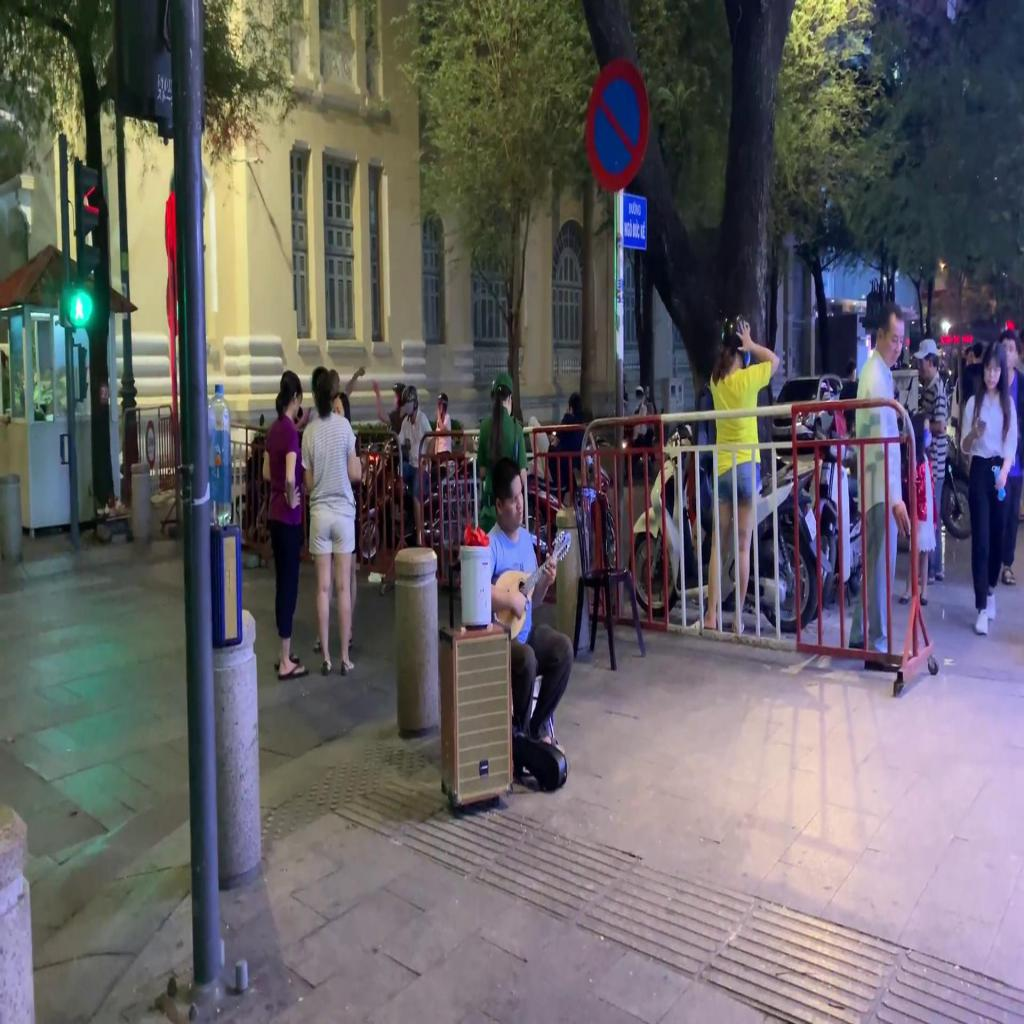cam_do_xe: (586, 62, 650, 188)
